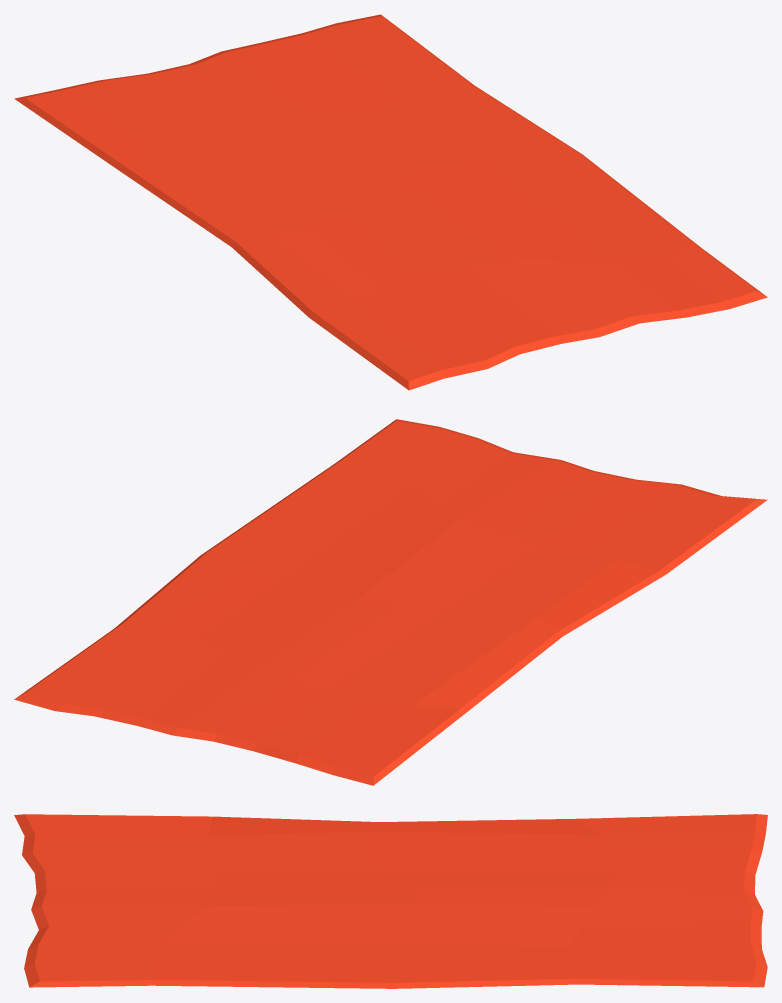
The model's file is SM_Blanket_Beach_C_City.fbx.
3 views of the same model, one above another, from view 1: azimuth 30°, elevation 25°; view 2: azimuth 150°, elevation 25°; view 3: azimuth 270°, elevation 25° (orthographic). The views are drawn at different scales.
Parts seen in each view (by area): view 1: SM_Blanket_Beach_C_City; view 2: SM_Blanket_Beach_C_City; view 3: SM_Blanket_Beach_C_City.
Part boxes in pixels (left/top/right/bottom): SM_Blanket_Beach_C_City: left=14, top=14, right=767, bottom=390; SM_Blanket_Beach_C_City: left=14, top=419, right=767, bottom=785; SM_Blanket_Beach_C_City: left=14, top=814, right=767, bottom=988.
Size of the model in its own units: 1.08 by 0.0225 by 1.99.
